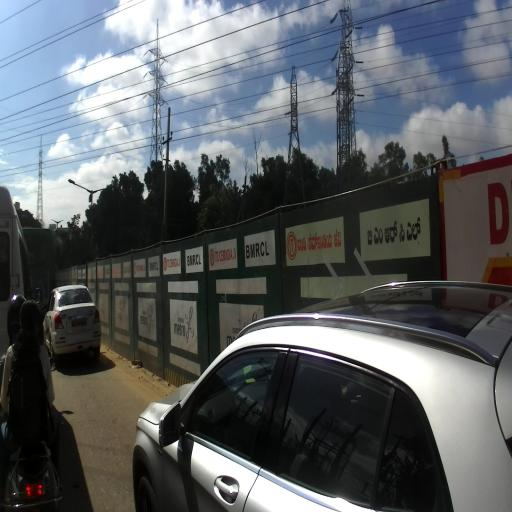street_light_0: (68, 179, 93, 203), (88, 185, 117, 203), (51, 218, 58, 224), (57, 220, 64, 224)
